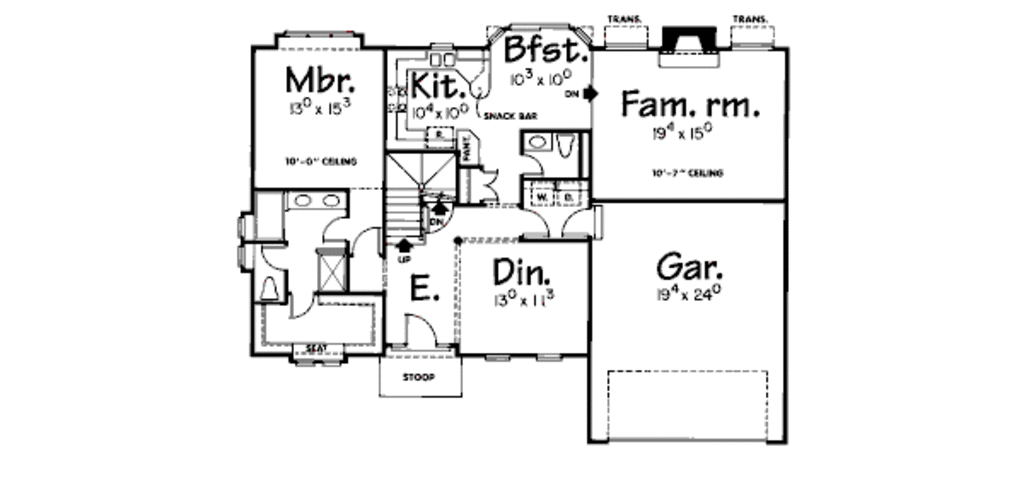door: (401, 314, 439, 352), (518, 202, 553, 240), (319, 213, 356, 248), (556, 203, 592, 235), (288, 286, 317, 324), (348, 226, 380, 260), (261, 242, 292, 272), (481, 165, 503, 207), (515, 153, 546, 178)
large_sink: (554, 132, 582, 157)
small_sink: (286, 190, 350, 212)
stairs: (384, 146, 456, 252)
twin_sink: (428, 46, 460, 72)
window: (277, 23, 358, 45), (496, 19, 575, 35), (476, 352, 565, 366), (286, 353, 343, 372)
